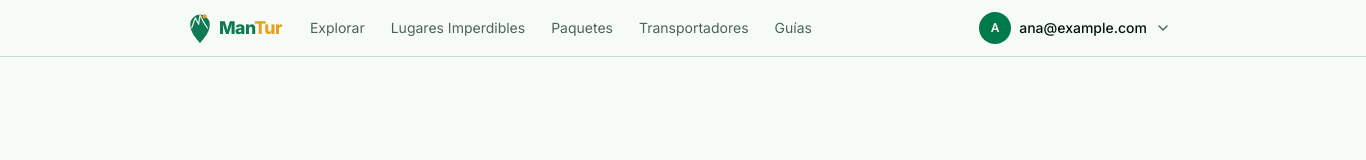
Scenario: PublicNav — user avatar initials › falls back to null role/full_name when the profile row is missing (does not crash)
Click the button "A ana@example.com" at [1075, 28], box [971,6,1179,50]
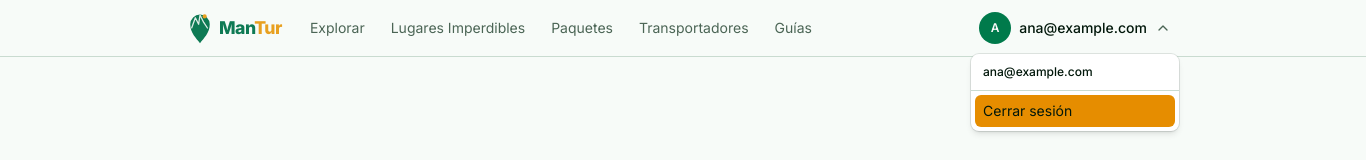
Check: the button "Cerrar sesión" is shown, box [983,101,1167,121]
